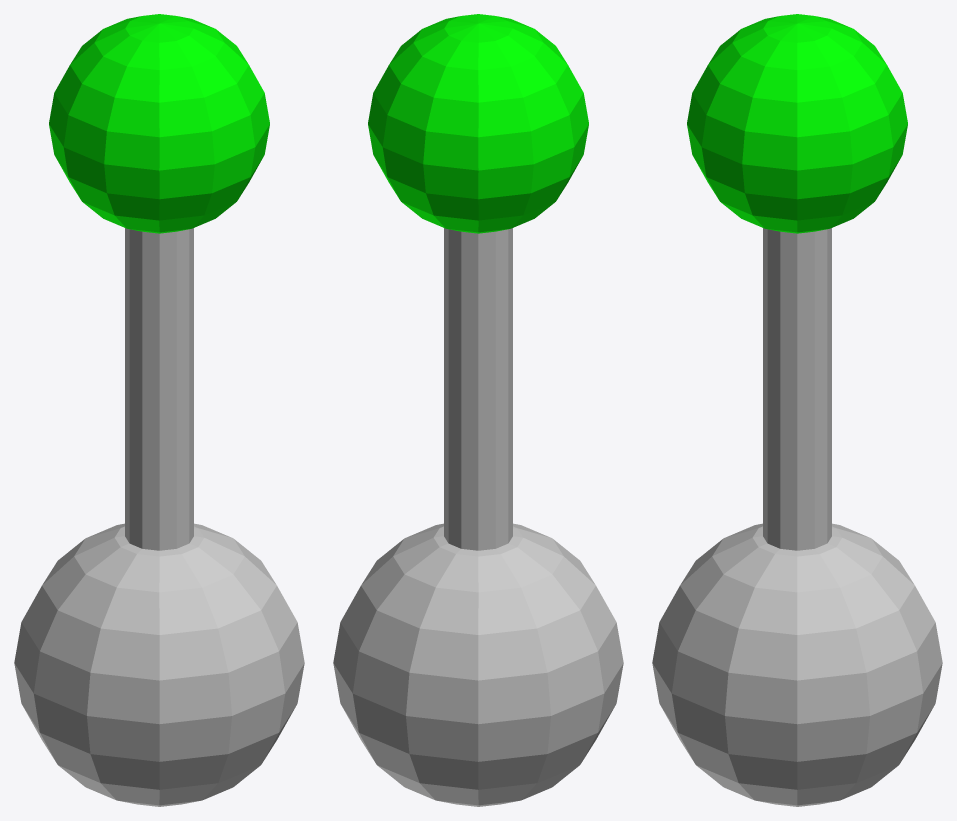
The model's file is joystick.obj.
3 views of the same model, side by side, from view 1: azimuth 30°, elevation 25°; view 2: azimuth 150°, elevation 25°; view 3: azimuth 270°, elevation 25° (orthographic).
Parts seen in each view (by area): view 1: joystick; view 2: joystick; view 3: joystick.
Part boxes in pixels (<box>): joystick: <box>14,14,304,806</box>; joystick: <box>333,14,623,806</box>; joystick: <box>652,14,942,806</box>.
Bounding box in the file's own units: 0.21 × 0.615 × 0.21.
